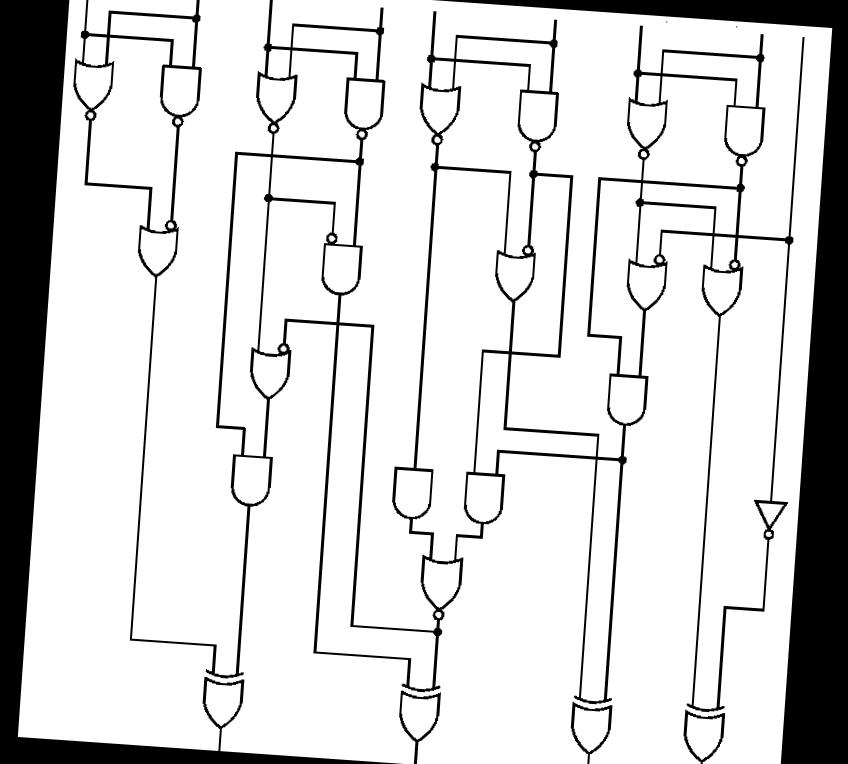and: (222, 446, 278, 514), (601, 366, 654, 432), (386, 462, 439, 526), (458, 466, 509, 532)
nand: (508, 82, 564, 158), (334, 69, 390, 145), (151, 56, 206, 133), (715, 98, 771, 172)
nor: (408, 548, 468, 626), (64, 53, 119, 130), (618, 93, 672, 168), (248, 66, 301, 142), (410, 80, 465, 152)
not: (746, 494, 791, 546)
xor: (193, 664, 248, 734), (391, 678, 444, 748), (563, 689, 616, 758), (676, 698, 728, 764)
